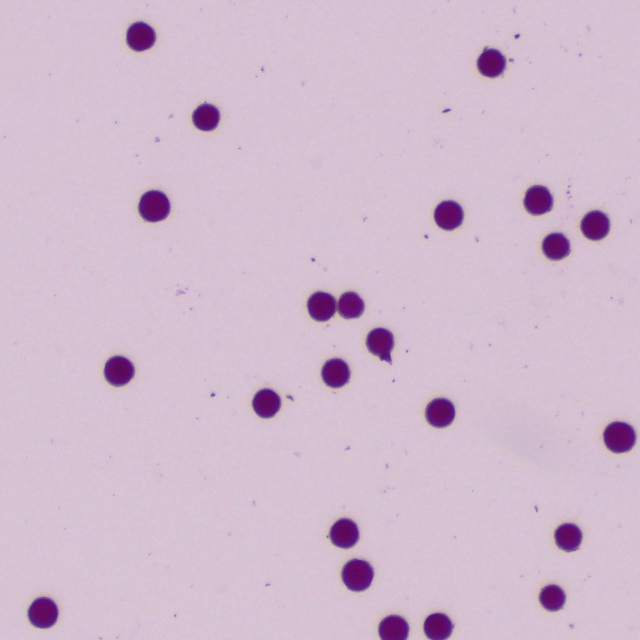viable: (604, 422, 635, 453), (343, 560, 373, 591), (367, 328, 393, 363), (139, 191, 169, 221), (105, 356, 134, 385), (29, 598, 57, 628), (330, 519, 358, 548), (435, 201, 463, 230), (127, 22, 155, 51), (524, 186, 552, 215), (308, 292, 335, 321), (582, 211, 609, 240), (253, 389, 280, 417), (427, 399, 454, 427), (322, 359, 349, 387), (478, 49, 505, 77), (425, 613, 453, 639), (555, 524, 581, 551), (193, 103, 219, 130), (543, 234, 569, 260), (379, 616, 408, 639), (339, 292, 364, 318), (540, 585, 565, 611)
